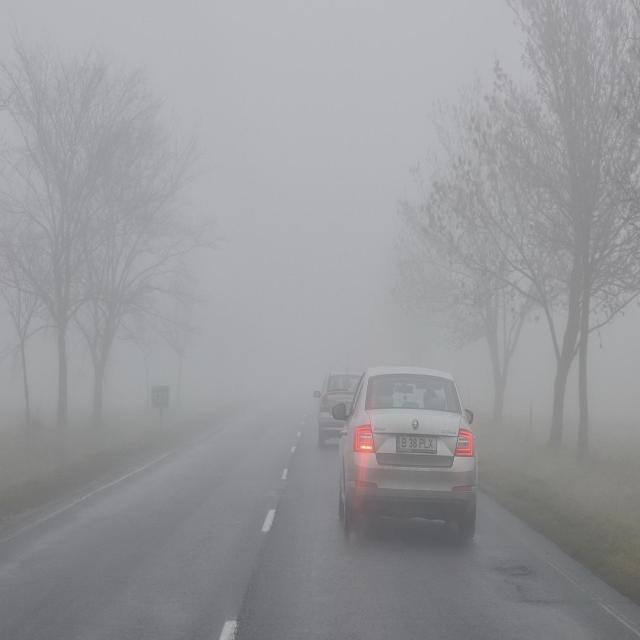Car: (335, 371, 473, 533), (320, 349, 364, 446)
